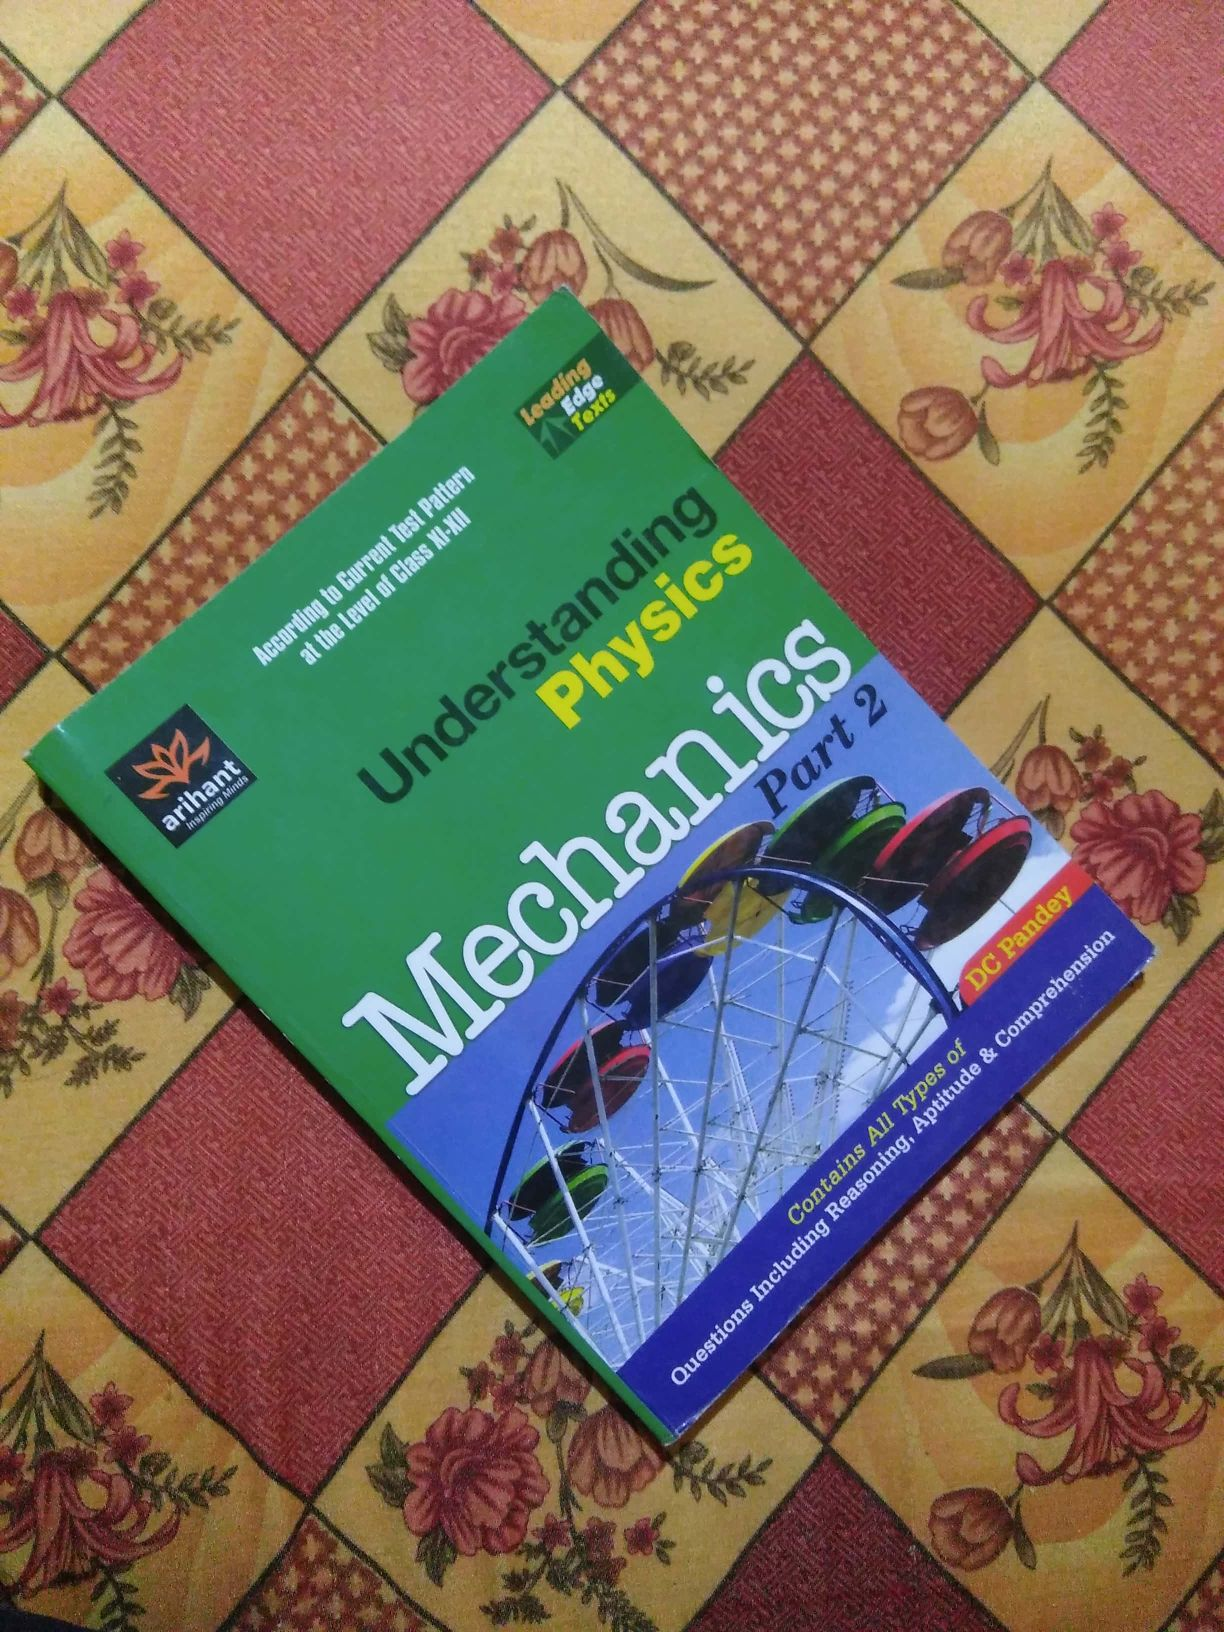mechanics: (75, 405, 1124, 1375)
